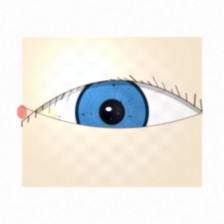pinguecula_lesion: (19, 92, 71, 134)
